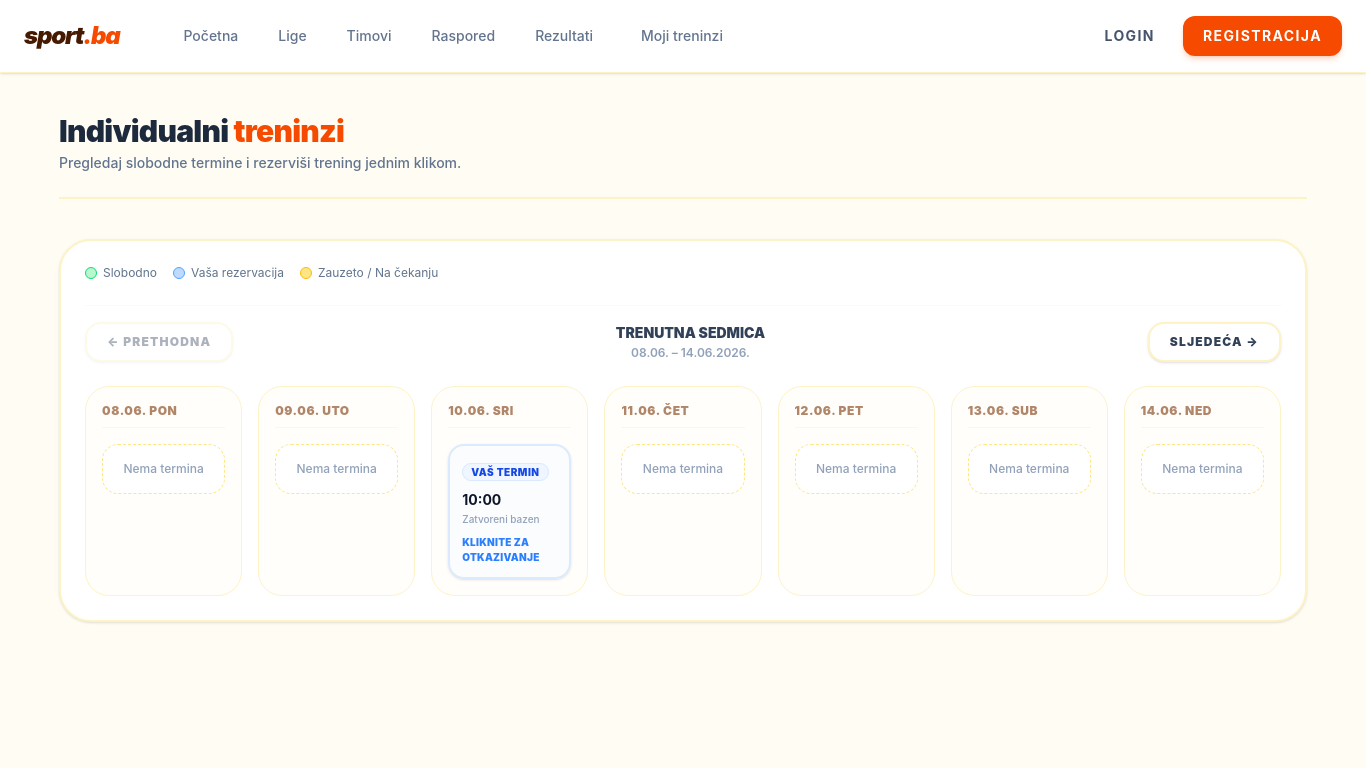
Test case: IndividualTraining page › otvara modal za otkazivanje za termin koji je korisnik rezervisao
The width and height of the screenshot is (1366, 768).
Expected: the text "Zatvoreni bazen" is shown, [462,513,540,525]
Click the button "Vaš Termin 10:00 Zatvoreni bazen Kliknite za otkazivanje".
click(510, 512)  # box [448,444,571,579]
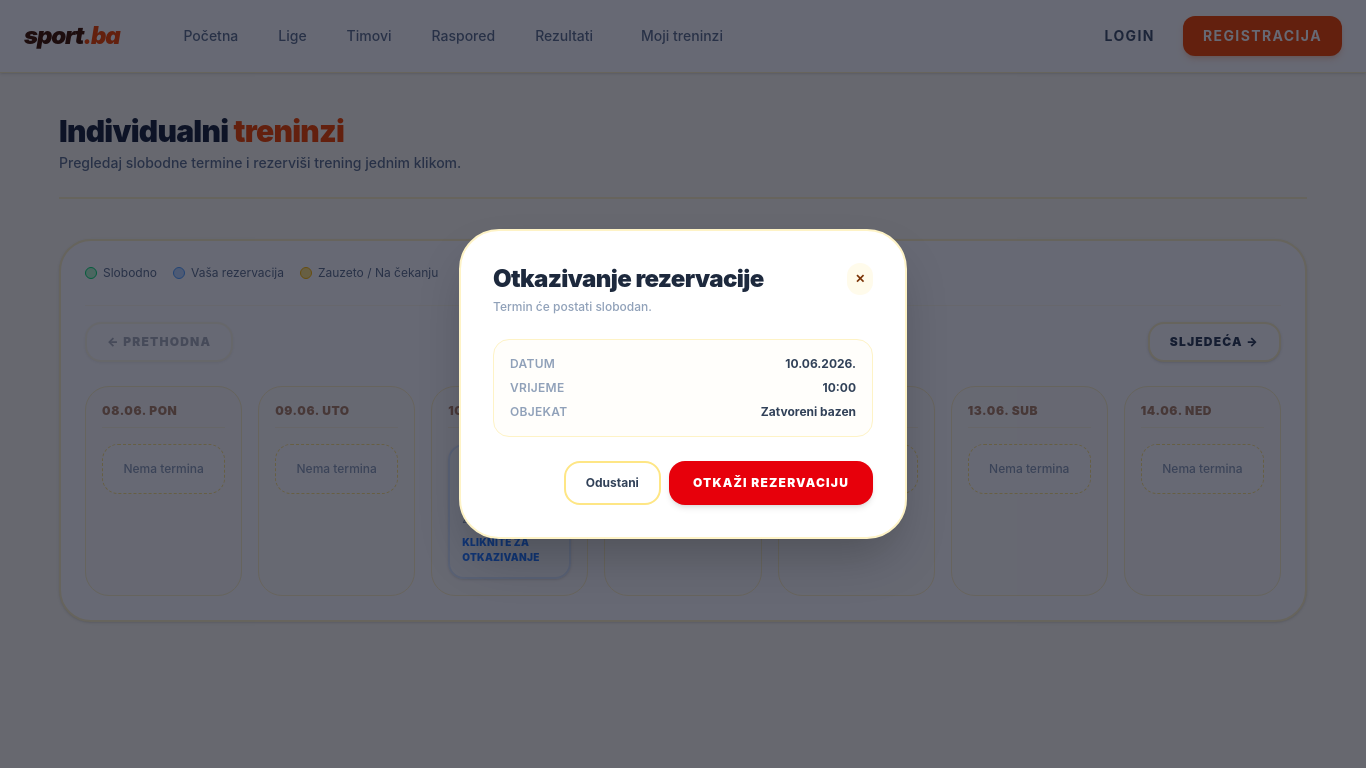
Expected: the heading "Otkazivanje rezervacije" is shown, [493,263,764,295]
